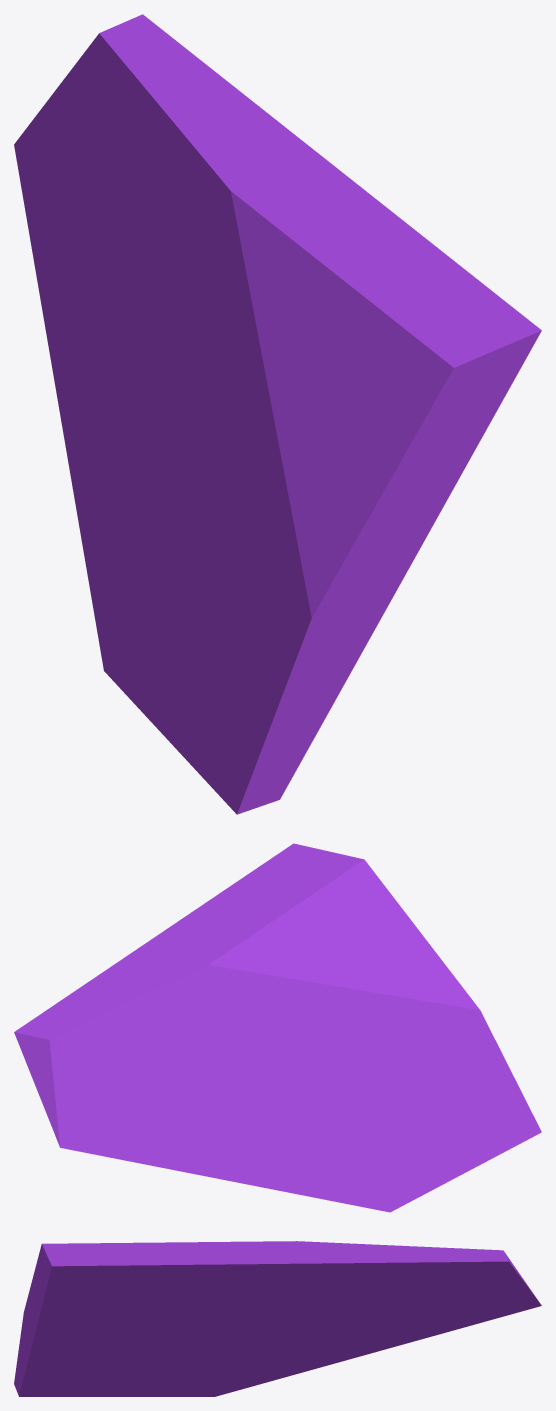
Rendered from Window_115_0_chunks.fbx.
The picture shows the model from 3 angles, top to bottom: view 1: azimuth 30°, elevation 25°; view 2: azimuth 150°, elevation 25°; view 3: azimuth 270°, elevation 25°; orthographic projection. The views are drawn at different scales.
Visible parts, largest first — view 1: Window_115_0_1, Window_115_0_5, Window_115_0_3, Window_115_0_8, Window_115_0_7, Window_115_0_4, Window_115_0_0, Window_115_0_6, Window_115_0_9, Window_115_0_2; view 2: Window_115_0_1, Window_115_0_5, Window_115_0_3, Window_115_0_8, Window_115_0_6, Window_115_0_7, Window_115_0_4, Window_115_0_9, Window_115_0_0, Window_115_0_2; view 3: Window_115_0_5, Window_115_0_0, Window_115_0_1, Window_115_0_4, Window_115_0_9, Window_115_0_6, Window_115_0_3, Window_115_0_7, Window_115_0_8.
Boxes of the visible parts, x1,y1,x2,y2 form: Window_115_0_1: (209,248,518,764); Window_115_0_5: (14,14,275,380); Window_115_0_3: (54,258,256,437); Window_115_0_8: (64,423,230,647); Window_115_0_7: (175,570,318,814); Window_115_0_4: (221,120,357,303); Window_115_0_0: (307,185,541,406); Window_115_0_6: (79,525,193,747); Window_115_0_9: (118,399,229,560); Window_115_0_2: (172,153,243,289); Window_115_0_1: (257,847,525,1101); Window_115_0_5: (14,969,210,1176); Window_115_0_3: (208,974,305,1183); Window_115_0_8: (244,1068,428,1194); Window_115_0_6: (298,1125,471,1212); Window_115_0_7: (409,1070,541,1169); Window_115_0_4: (108,930,281,981); Window_115_0_9: (267,1042,403,1131); Window_115_0_0: (165,843,311,930); Window_115_0_2: (166,960,266,1035); Window_115_0_5: (319,1243,541,1346); Window_115_0_0: (46,1242,262,1330); Window_115_0_1: (16,1242,213,1377); Window_115_0_4: (214,1241,355,1302); Window_115_0_9: (107,1323,331,1363); Window_115_0_6: (103,1360,305,1396); Window_115_0_3: (238,1300,394,1356); Window_115_0_7: (14,1351,132,1396); Window_115_0_8: (226,1349,359,1371).
Size of the model in its own units: 361 by 385 by 847.
